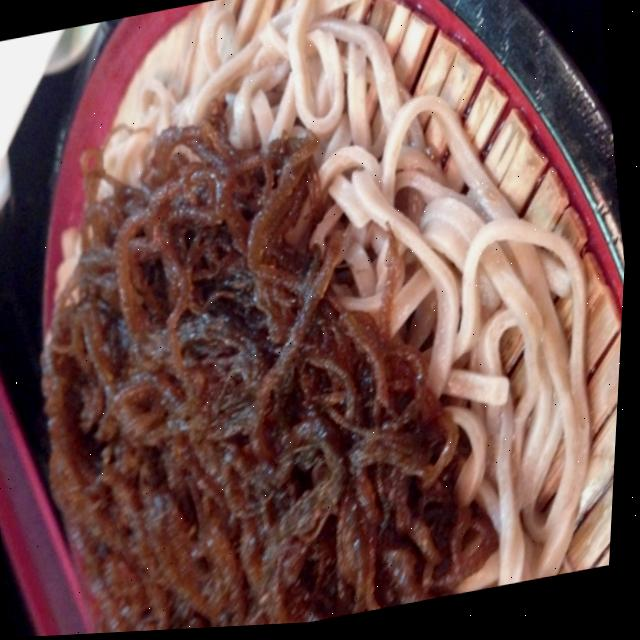蔬菜料理: (0, 10, 536, 639)
